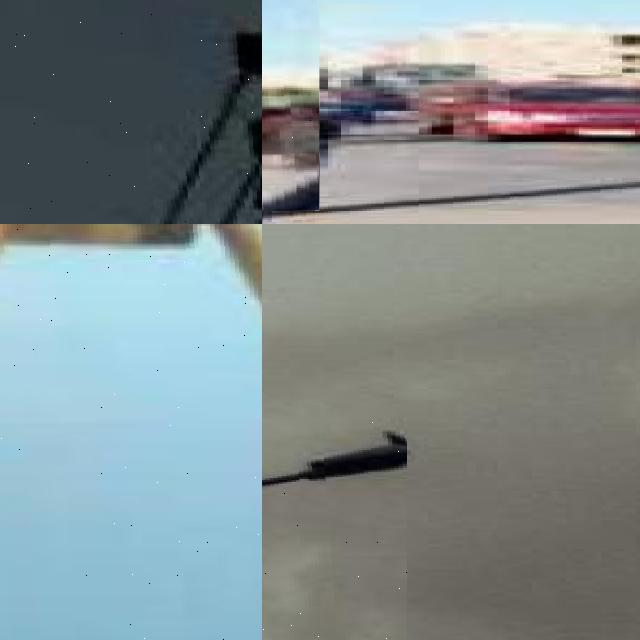street light: (0, 224, 262, 640), (0, 0, 262, 224), (262, 405, 406, 640)
